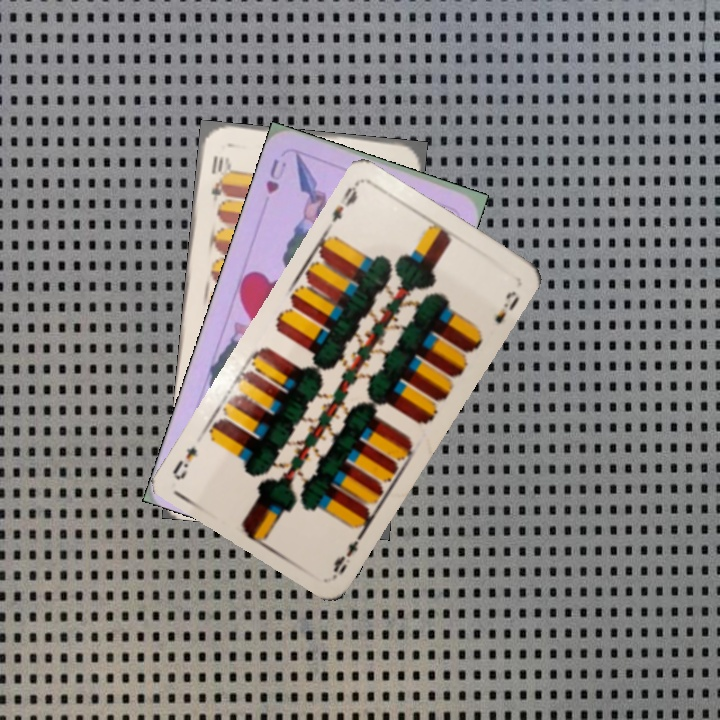E10: (207, 151, 228, 203)
E9: (329, 526, 367, 579), (327, 179, 362, 226)
HU: (262, 155, 289, 197)
